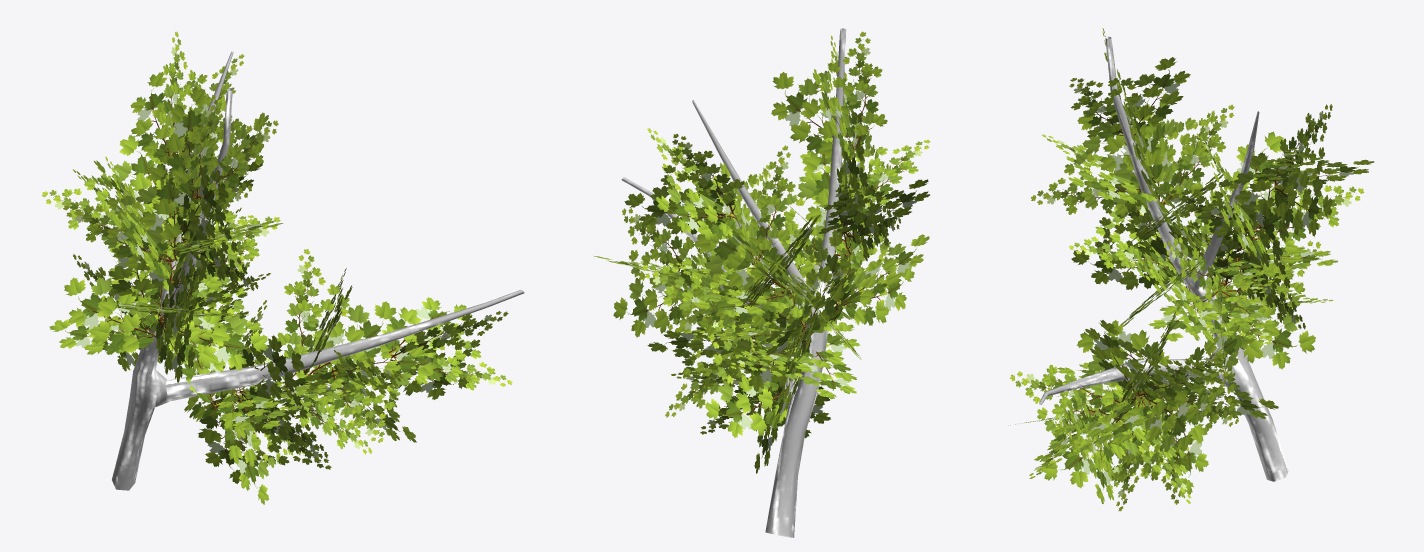
The model's file is bush 1.fbx.
The picture shows the model from 3 angles, left to right: view 1: azimuth 30°, elevation 25°; view 2: azimuth 150°, elevation 25°; view 3: azimuth 270°, elevation 25°; orthographic projection. The views are drawn at different scales.
Parts seen in each view (by area): view 1: LLP3.001, LP+.005; view 2: LLP3.001, LP+.005; view 3: LLP3.001, LP+.005.
Boxes of the visible parts, x1,y1,x2,y2 form: LLP3.001: (42, 31, 512, 504); LP+.005: (112, 51, 524, 490); LLP3.001: (594, 31, 930, 473); LP+.005: (621, 28, 846, 537); LLP3.001: (1008, 28, 1374, 511); LP+.005: (1039, 36, 1288, 481).
Bounding box in the file's own units: 1748 × 2044 × 1628.
